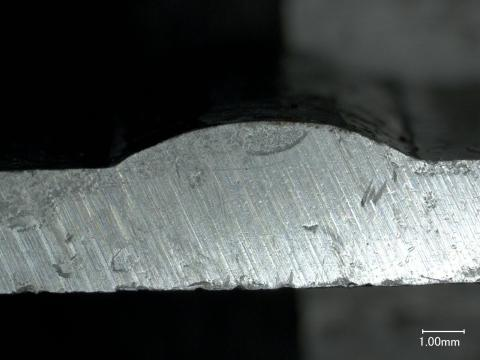test: (115, 121, 420, 166)
